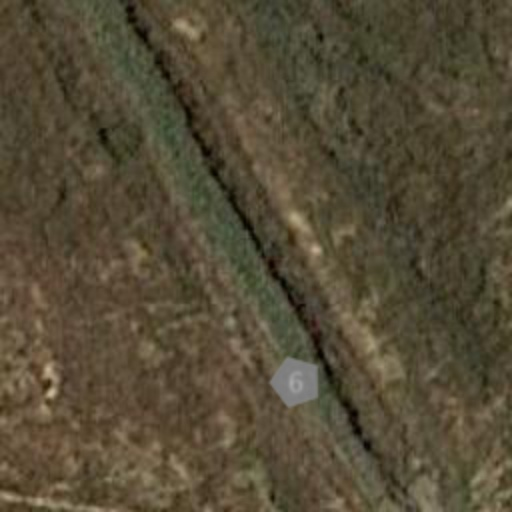pentagon: (268, 354, 324, 410)
